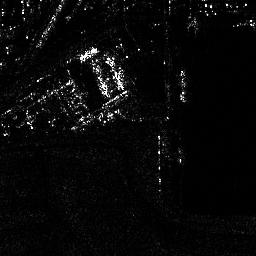ship: (178, 68, 187, 103)
